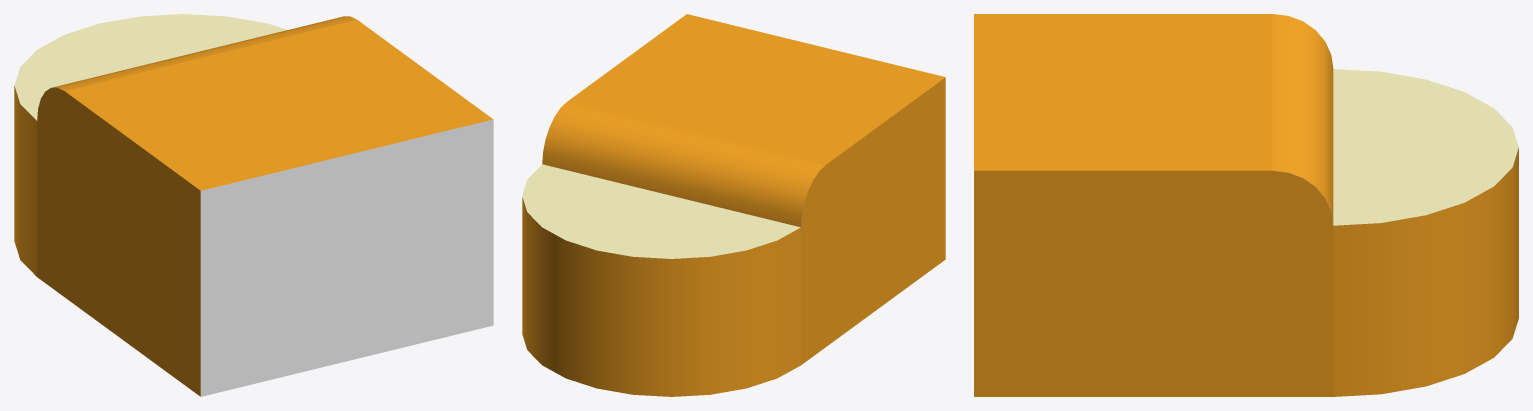
The model's file is Fingertip.dae.
The picture shows the model from 3 angles, left to right: view 1: azimuth 30°, elevation 25°; view 2: azimuth 150°, elevation 25°; view 3: azimuth 270°, elevation 25°; orthographic projection. The views are drawn at different scales.
Parts seen in each view (by area): view 1: SketchUp (×6); view 2: SketchUp (×5); view 3: SketchUp (×5).
Boxes of the visible parts, left/top/right/bottom form: SketchUp (×6): left=14, top=14, right=493, bottom=396; SketchUp (×5): left=522, top=14, right=945, bottom=396; SketchUp (×5): left=974, top=14, right=1518, bottom=396.
Bounding box in the file's own units: 0.626 × 0.9193 × 0.4213.
7 materials, 6 textured.
